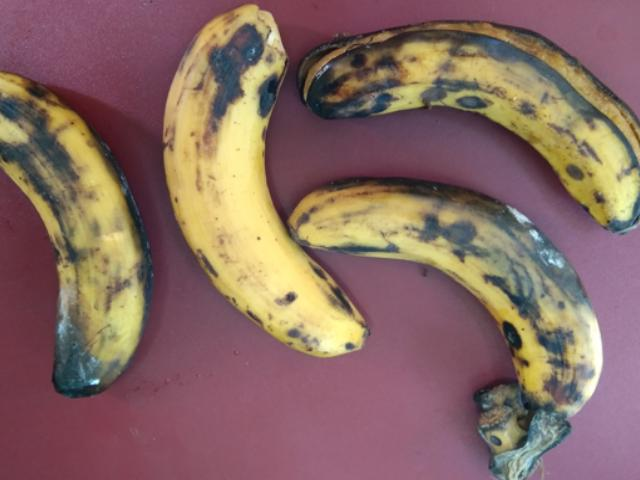overripe: (168, 5, 367, 371)
rotten: (282, 0, 639, 246), (307, 160, 612, 428), (0, 54, 167, 408)
